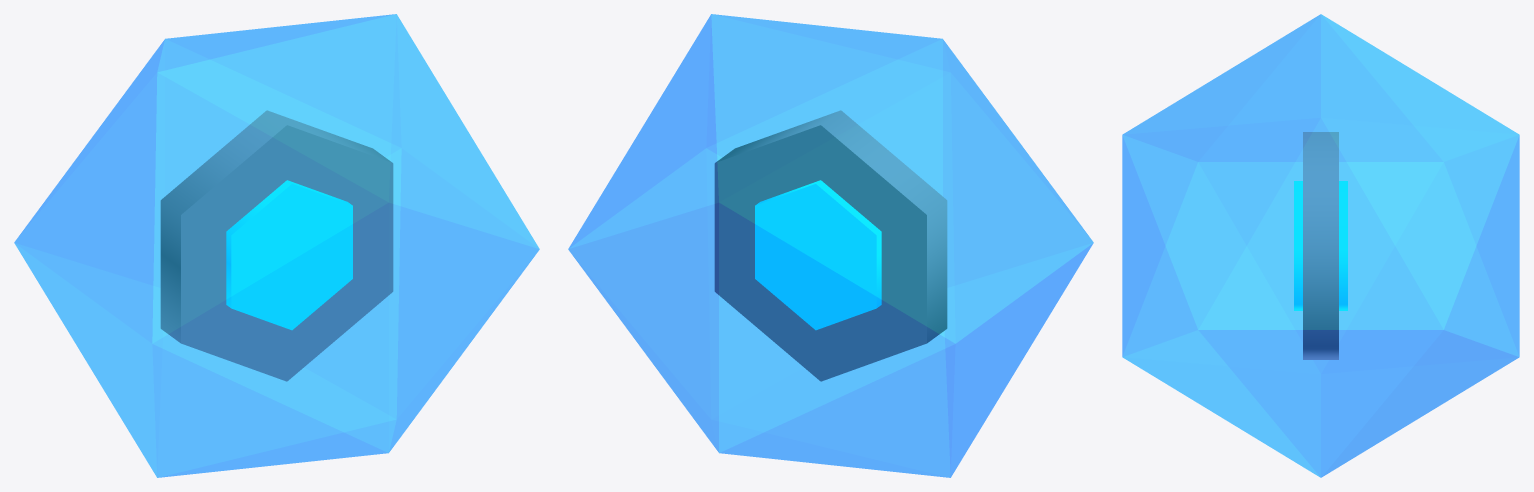
The model's file is Powerup_Shield.glb.
3 renders of one model, left to right at view 1: azimuth 30°, elevation 25°; view 2: azimuth 150°, elevation 25°; view 3: azimuth 270°, elevation 25°, orthographic. The views are drawn at different scales.
Parts seen in each view (by area): view 1: Weapon_Upgrade_Shield; view 2: Weapon_Upgrade_Shield; view 3: Weapon_Upgrade_Shield.
Part boxes in pixels (left/top/right/bottom): Weapon_Upgrade_Shield: left=14, top=14, right=539, bottom=477; Weapon_Upgrade_Shield: left=568, top=14, right=1093, bottom=477; Weapon_Upgrade_Shield: left=1122, top=14, right=1519, bottom=477.
Bounding box in the file's own units: 1.11 × 1.11 × 1.11.
